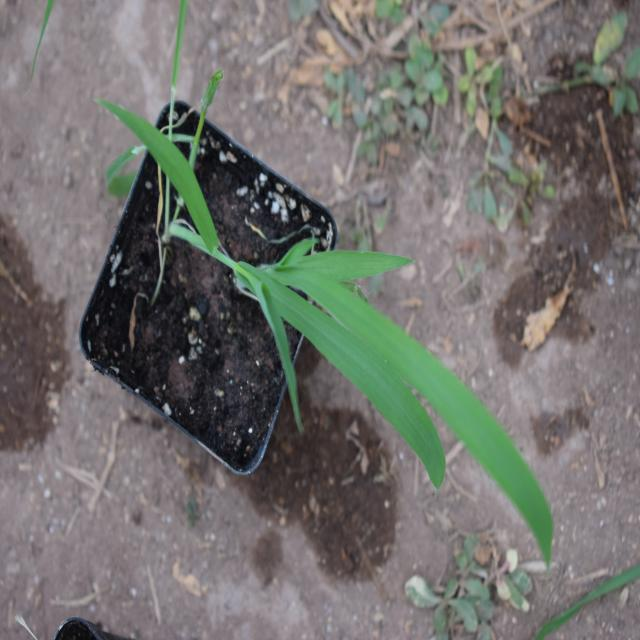crabgrass: (219, 219, 548, 544)
